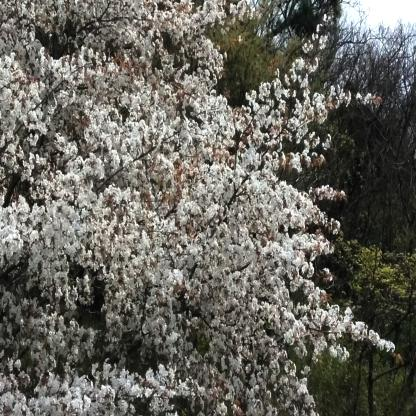OshimaSakura: (1, 2, 396, 416)
